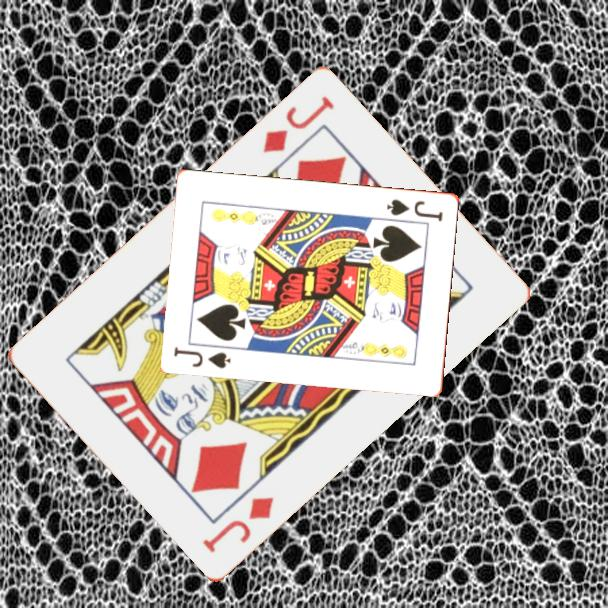d11: (259, 93, 338, 157), (199, 494, 277, 557)
s11: (383, 195, 446, 224), (171, 343, 234, 371)
